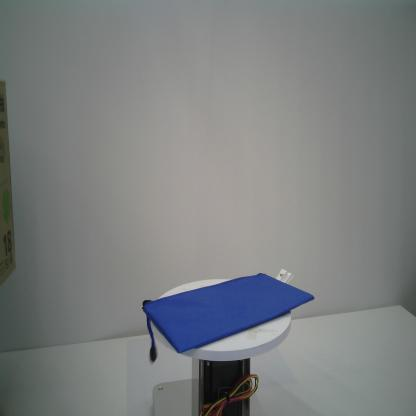Stationery: (142, 273, 315, 362)
